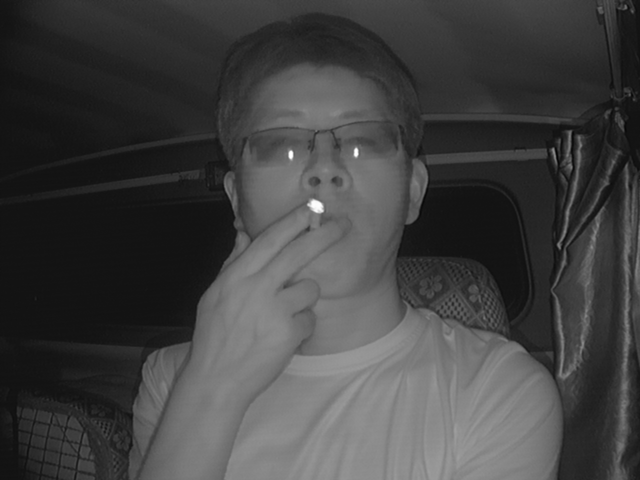hand: (233, 201, 351, 345)
